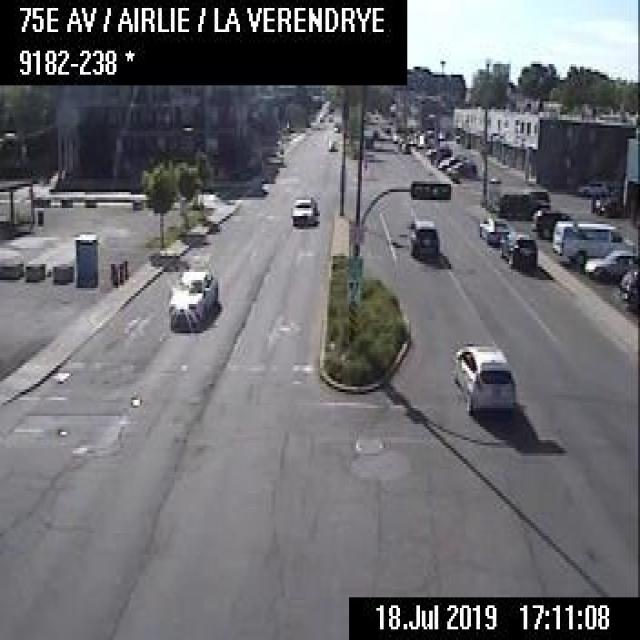construction: (116, 261, 123, 282), (110, 263, 116, 285), (121, 257, 126, 280)
vehicle: (453, 339, 515, 413), (549, 218, 634, 266), (166, 269, 218, 332), (583, 246, 637, 278), (499, 188, 548, 220), (498, 230, 536, 271), (532, 207, 575, 239), (405, 218, 438, 258), (477, 212, 508, 245), (288, 194, 317, 228), (616, 269, 638, 310), (447, 158, 477, 178), (577, 176, 606, 196), (596, 196, 618, 214), (437, 153, 462, 166), (326, 136, 337, 151), (331, 122, 340, 131), (326, 113, 333, 121)
